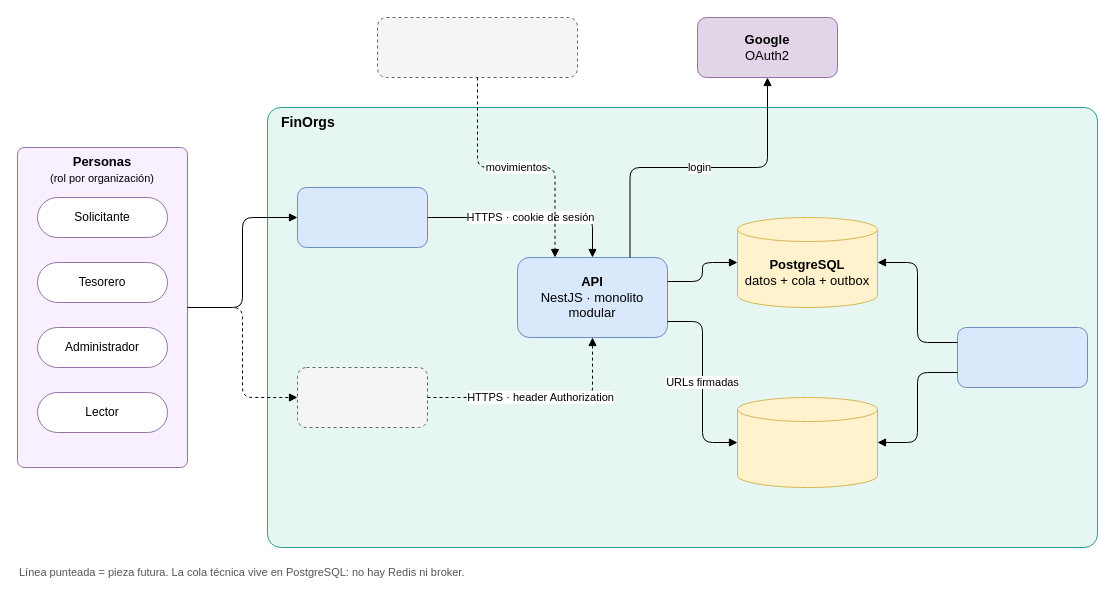
The diagram is 1115 pixels wide and 605 high, and some of its shapes have lost their labels. The centre of each missing label's shape, as x and y in pixels:
"App Android (futuro)" belongs at point (362, 397).
"Banco cartola CSV · Finanzas Abiertas (futuro)" belongs at point (477, 47).
"MinIO comprobantes" belongs at point (807, 442).
"Web React" belongs at point (362, 217).
"Worker cola técnica" belongs at point (1022, 357).
